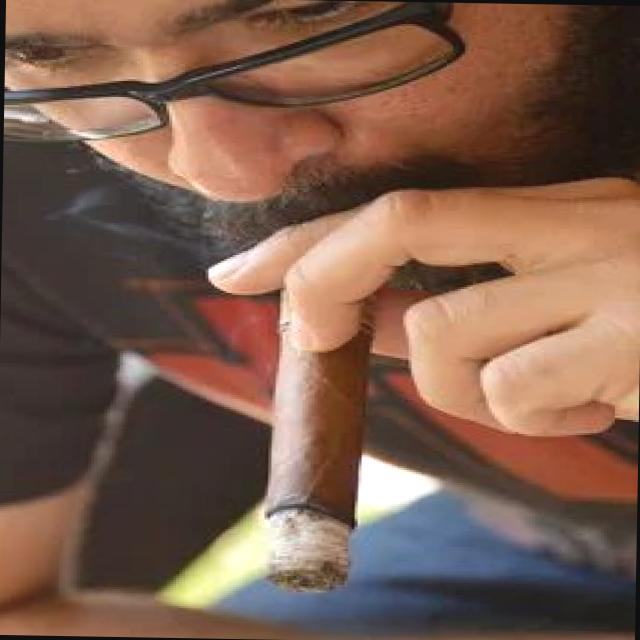smoke: (254, 273, 382, 603)
